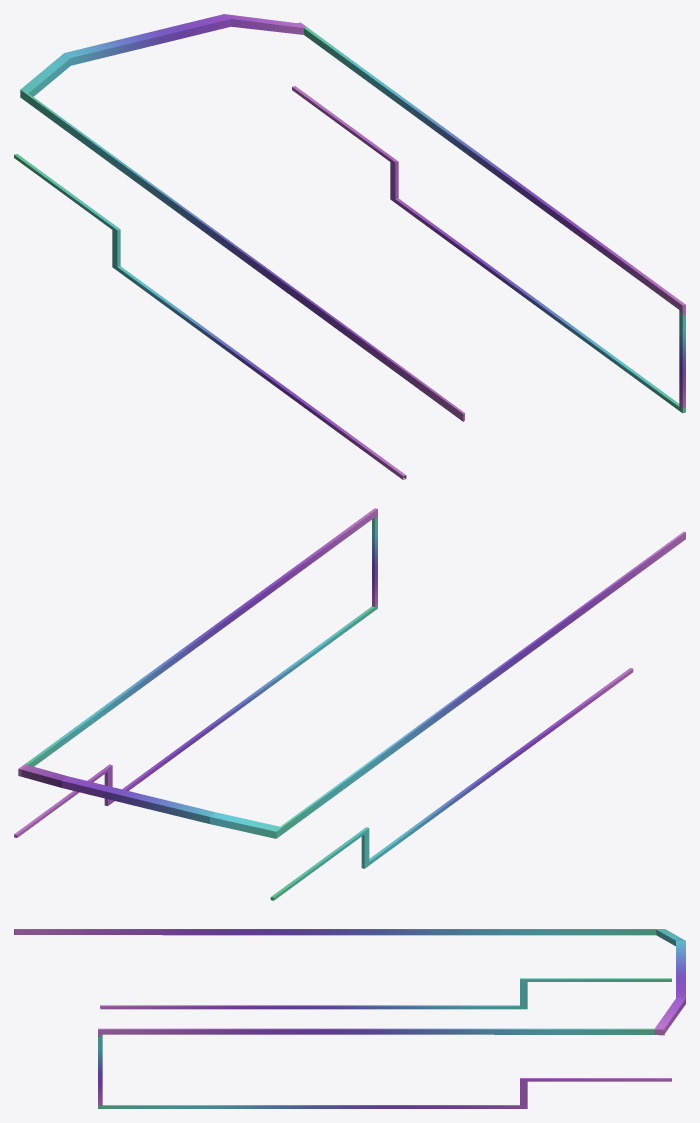
File: LedsBUS.fbx
3 views of the same model, one above another, from view 1: azimuth 30°, elevation 25°; view 2: azimuth 150°, elevation 25°; view 3: azimuth 270°, elevation 25° (orthographic). The views are drawn at different scales.
Visible parts, largest first — view 1: Cube.001; view 2: Cube.001; view 3: Cube.001.
Boxes of the visible parts, box(x1,y1,x2,y2) form: Cube.001: box(14, 14, 685, 479); Cube.001: box(14, 508, 685, 900); Cube.001: box(14, 929, 685, 1108).
Bounding box in the file's own units: 1468 × 601 × 4130.
